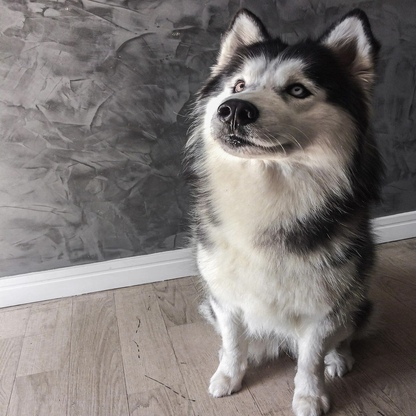husky: (181, 6, 391, 416)
